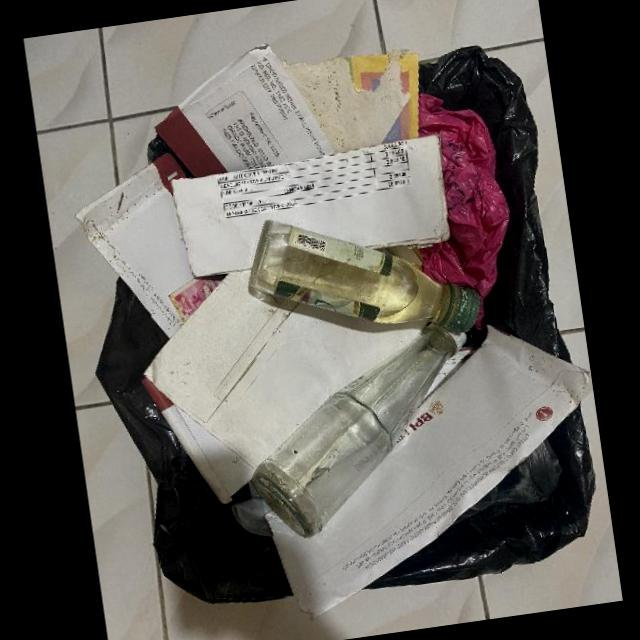chai_thuy_tinh: (247, 321, 466, 539), (250, 217, 481, 334)
giay: (266, 325, 592, 619), (142, 268, 434, 467), (175, 135, 449, 278), (74, 153, 224, 342), (151, 45, 333, 177), (142, 379, 264, 501), (284, 54, 419, 151)
tui_ni_long: (415, 94, 513, 327)
